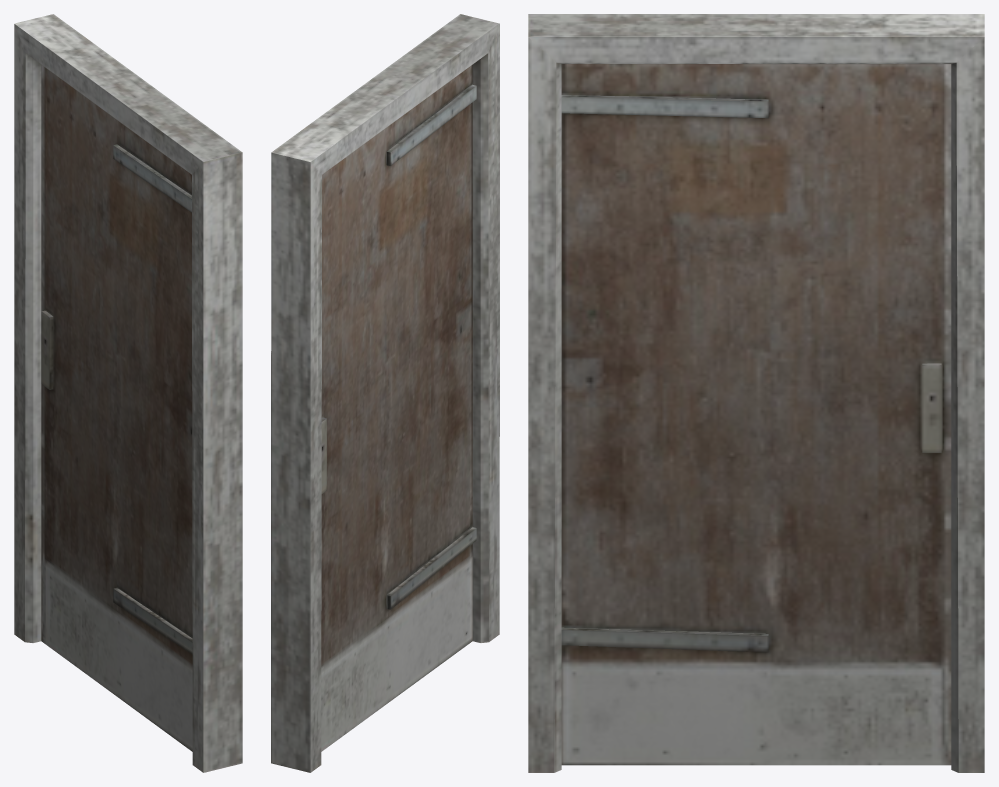
The model's file is Wooden_SingleDoorSet_01.FBX.
The picture shows the model from 3 angles, left to right: view 1: azimuth 30°, elevation 25°; view 2: azimuth 150°, elevation 25°; view 3: azimuth 270°, elevation 25°; orthographic projection. The views are drawn at different scales.
Visible parts, largest first — view 1: Wooden_SingleDoor_01, Wooden_SingleDoorFrame_01; view 2: Wooden_SingleDoor_01, Wooden_SingleDoorFrame_01; view 3: Wooden_SingleDoor_01, Wooden_SingleDoorFrame_01.
Boxes of the visible parts, box(x1,y1,x2,y2) form: Wooden_SingleDoor_01: box(41, 65, 192, 751); Wooden_SingleDoorFrame_01: box(14, 14, 242, 772); Wooden_SingleDoor_01: box(321, 65, 476, 751); Wooden_SingleDoorFrame_01: box(271, 14, 499, 772); Wooden_SingleDoor_01: box(561, 64, 951, 765); Wooden_SingleDoorFrame_01: box(528, 14, 984, 772).
Bounding box in the file's own units: 15 × 223 × 125.
